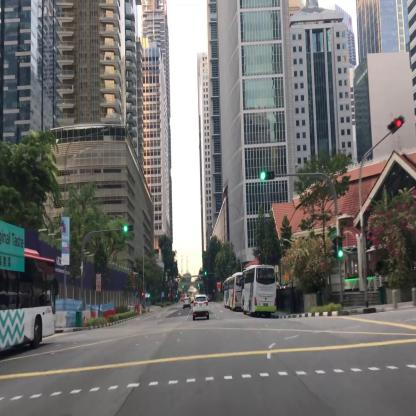green_traffic_light: (338, 235, 342, 258), (261, 172, 274, 179), (124, 226, 134, 230)
